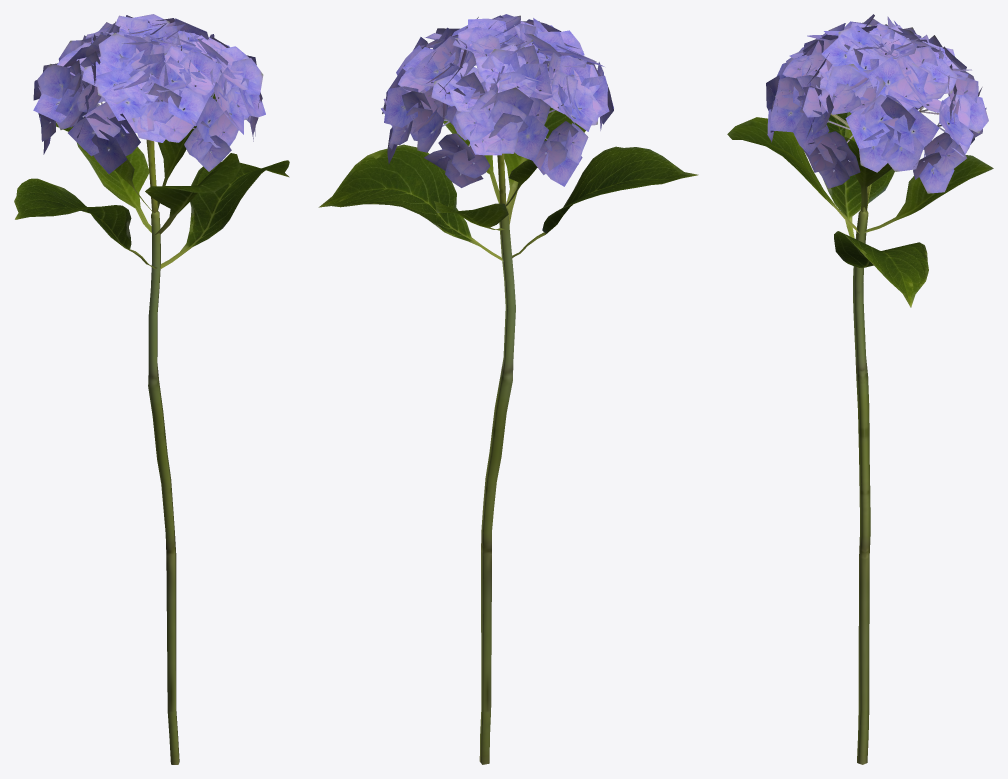
The model's file is Hydrangea OG LONG PURPLE.glb.
3 renders of one model, left to right at view 1: azimuth 30°, elevation 25°; view 2: azimuth 150°, elevation 25°; view 3: azimuth 270°, elevation 25°, orthographic. The views are drawn at different scales.
Parts seen in each view (by area): view 1: Hydrangea; view 2: Hydrangea; view 3: Hydrangea.
Part boxes in pixels (left/top/right/bottom): Hydrangea: left=14, top=14, right=289, bottom=764; Hydrangea: left=318, top=14, right=698, bottom=764; Hydrangea: left=727, top=14, right=993, bottom=764.
Size of the model in its own units: 1.38 by 2.99 by 1.
1 material, 1 textured.
